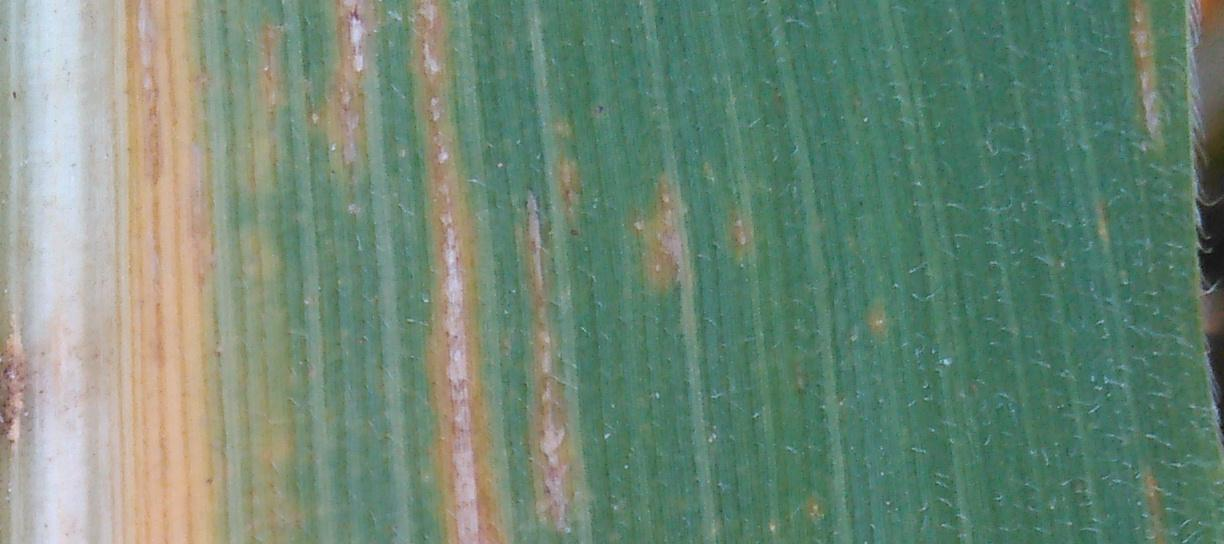tarspot: (565, 223, 583, 240), (853, 193, 869, 210), (593, 99, 608, 116), (8, 85, 20, 103), (1, 32, 11, 44)
